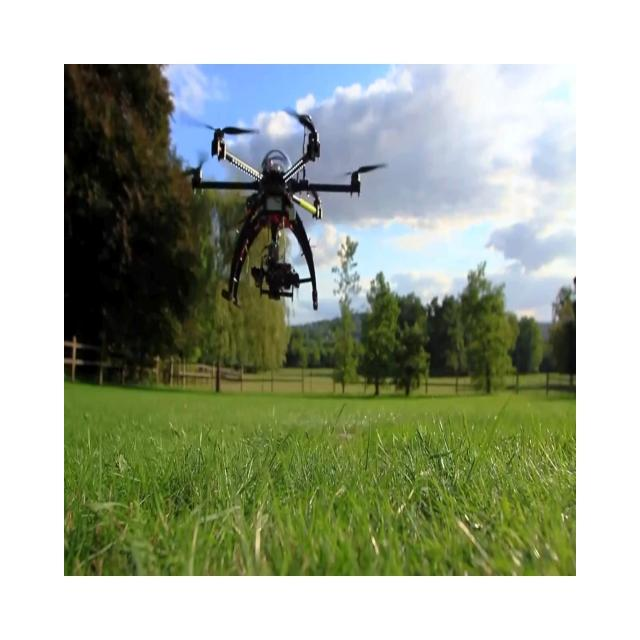drone: (181, 107, 387, 310)
